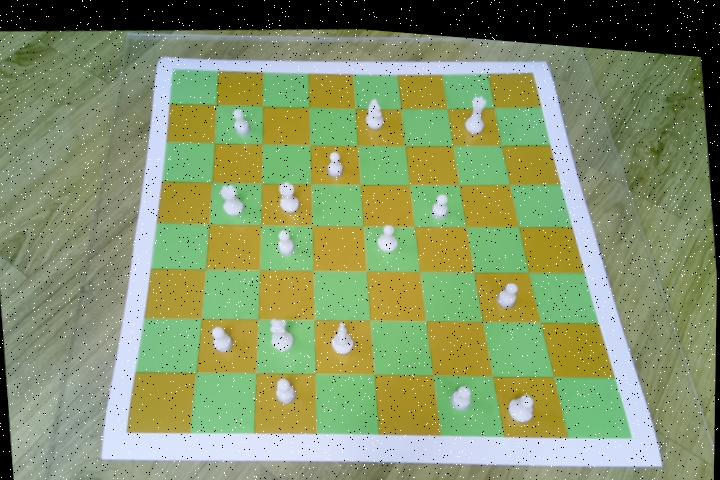chessboard-detect: (126, 62, 633, 428)
